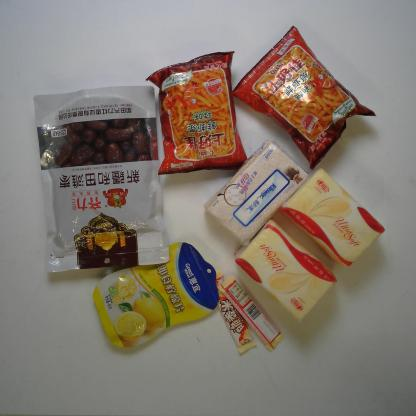Chocolate: (218, 274, 286, 350), (213, 270, 257, 354)
Dried Food: (32, 85, 172, 273)
Dried Fruit: (92, 242, 218, 348)
Puffed Food: (232, 25, 376, 170), (145, 49, 246, 177)
Tissue: (203, 140, 309, 244), (235, 220, 338, 324), (279, 168, 387, 266)
